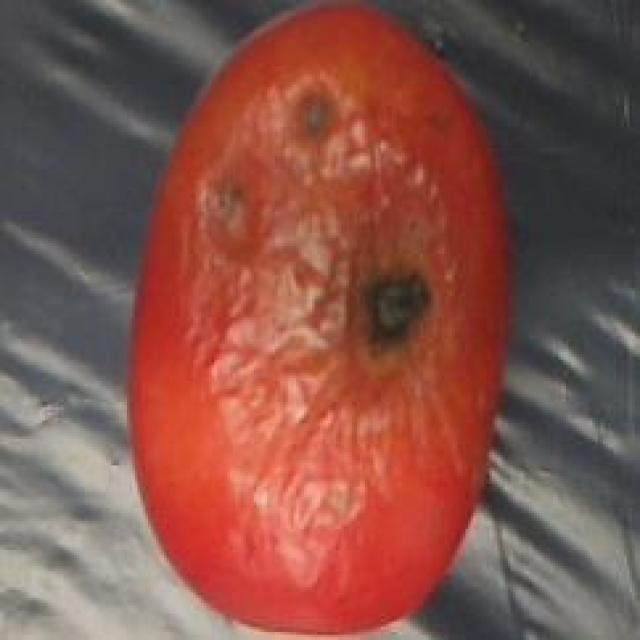overripe tomato: (103, 0, 553, 640)
